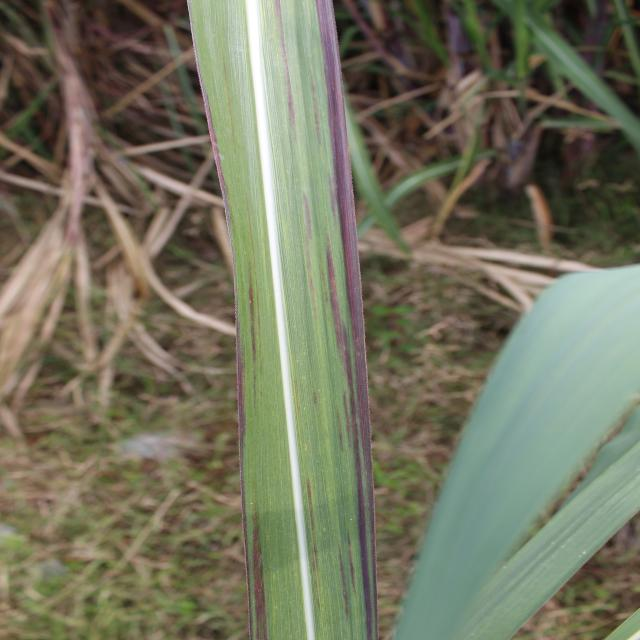Sugarcane: (187, 2, 380, 640), (191, 13, 379, 640), (390, 267, 640, 633), (514, 4, 640, 155), (341, 91, 407, 255), (481, 0, 566, 94), (376, 156, 481, 225), (389, 1, 455, 77), (601, 2, 640, 120), (450, 0, 501, 84)
